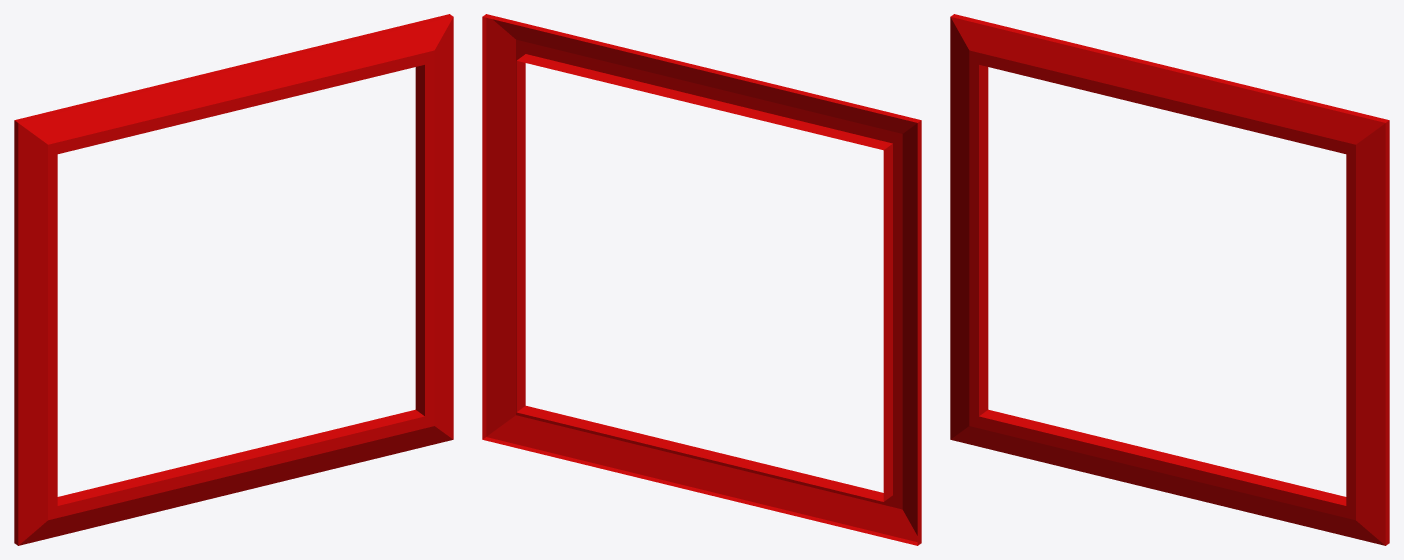
File: VentLip.fbx
The picture shows the model from 3 angles, left to right: view 1: azimuth 30°, elevation 25°; view 2: azimuth 150°, elevation 25°; view 3: azimuth 330°, elevation 25°; orthographic projection.
Parts seen in each view (by area): view 1: VentLip; view 2: VentLip; view 3: VentLip.
Boxes of the visible parts, x1,y1,x2,y2 form: VentLip: (14,14,453,545); VentLip: (482,14,921,545); VentLip: (950,14,1389,545).
Size of the model in its own units: 144 by 134 by 5.32.
